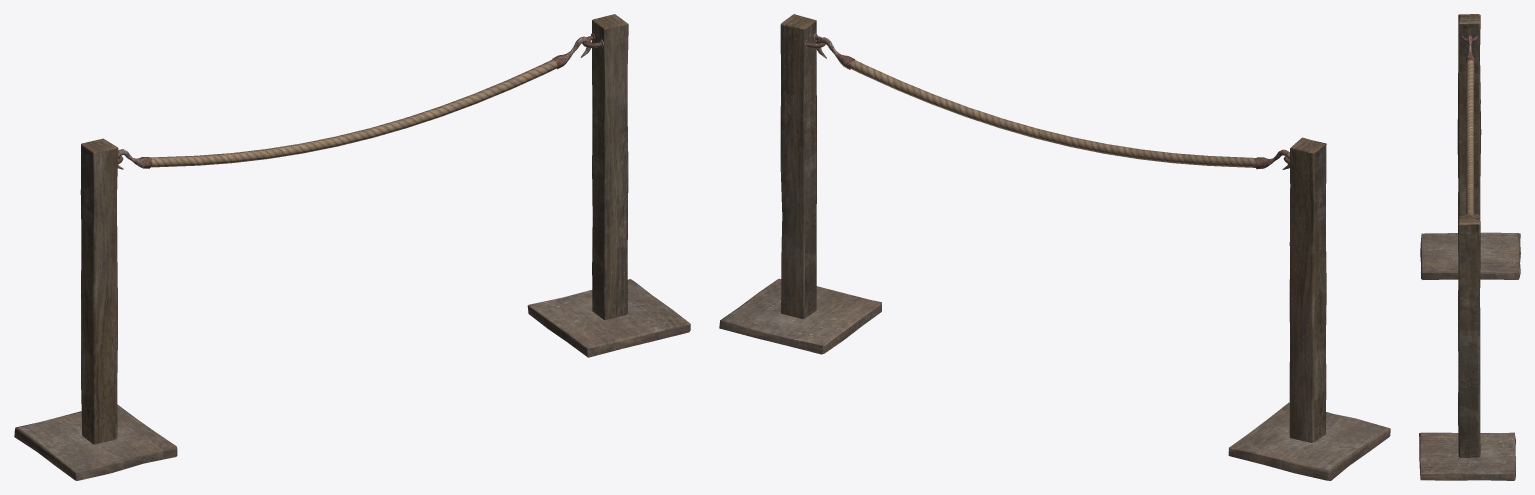
File: SM_RopeFence_A.fbx
3 renders of one model, left to right at view 1: azimuth 30°, elevation 25°; view 2: azimuth 150°, elevation 25°; view 3: azimuth 270°, elevation 25°, orthographic. The views are drawn at different scales.
Visible parts, largest first — view 1: SM_RopeFence_A_LOD0; view 2: SM_RopeFence_A_LOD0; view 3: SM_RopeFence_A_LOD0.
Boxes of the visible parts, x1,y1,x2,y2 form: SM_RopeFence_A_LOD0: [14, 14, 690, 480]; SM_RopeFence_A_LOD0: [719, 14, 1390, 480]; SM_RopeFence_A_LOD0: [1419, 14, 1520, 480].
Bounding box in the file's own units: 184 × 32.72 × 86.18.
1 material, 1 textured.
